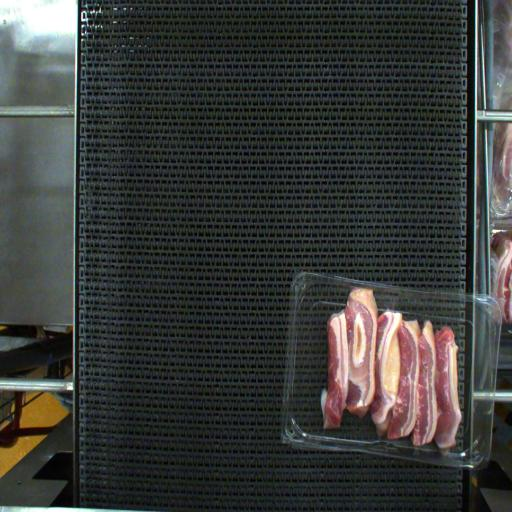packaging-error: (341, 267, 405, 314)
twisted-meat: (354, 330, 409, 418)
